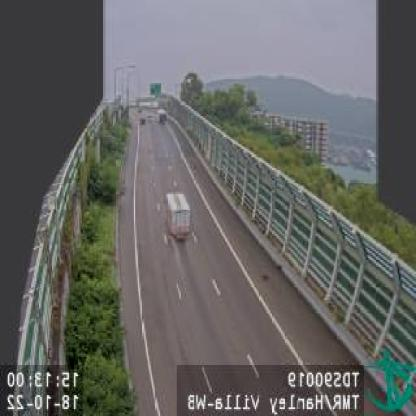Truck: (163, 189, 190, 238)
